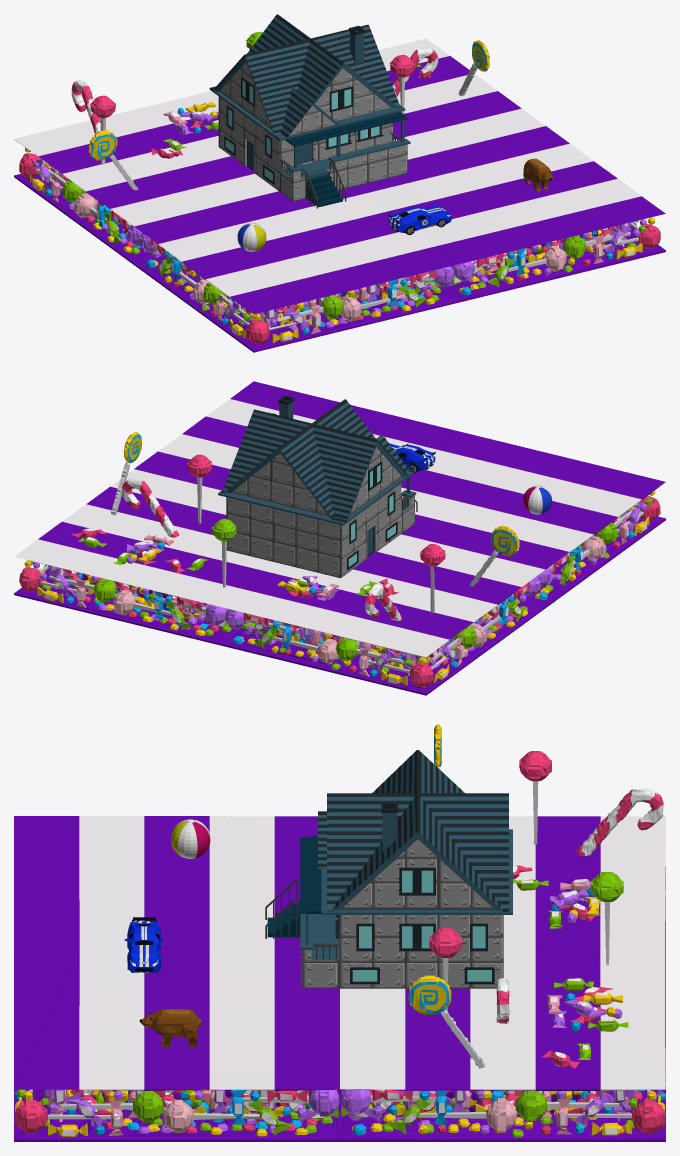
3 renders of one model, top to bottom at view 1: azimuth 30°, elevation 25°; view 2: azimuth 150°, elevation 25°; view 3: azimuth 270°, elevation 25°, orthographic. The views are drawn at different scales.
Parts seen in each view (by area): view 1: TERRAIN_CANDY, Cube.078, VEHICLES_RACING_CAR, OBJRANDOM_BEACHBALL, ANIMAL_OSO; view 2: TERRAIN_CANDY, Cube.078, VEHICLES_RACING_CAR, OBJRANDOM_BEACHBALL; view 3: TERRAIN_CANDY, Cube.078, VEHICLES_RACING_CAR, ANIMAL_OSO, OBJRANDOM_BEACHBALL.
Boxes of the visible parts, x1,y1,x2,y2 form: TERRAIN_CANDY: [14, 31, 665, 352]; Cube.078: [209, 14, 410, 208]; VEHICLES_RACING_CAR: [388, 205, 451, 234]; OBJRANDOM_BEACHBALL: [237, 222, 266, 251]; ANIMAL_OSO: [523, 158, 553, 191]; TERRAIN_CANDY: [14, 381, 665, 695]; Cube.078: [218, 395, 417, 578]; VEHICLES_RACING_CAR: [389, 443, 435, 472]; OBJRANDOM_BEACHBALL: [523, 485, 552, 514]; TERRAIN_CANDY: [14, 724, 665, 1141]; Cube.078: [265, 750, 512, 988]; VEHICLES_RACING_CAR: [124, 917, 163, 972]; ANIMAL_OSO: [139, 1009, 201, 1046]; OBJRANDOM_BEACHBALL: [171, 819, 210, 858].
Size of the model in its own units: 4059 by 1736 by 4000.
Materials: 28 (4 with a texture image).
